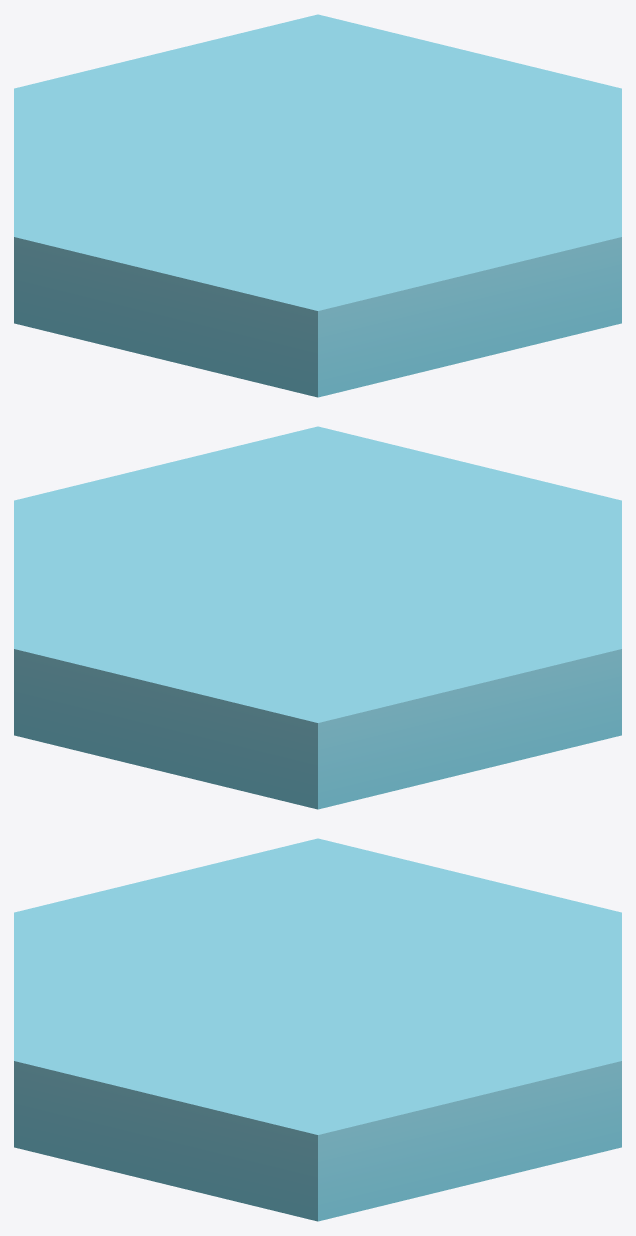
Rendered from lowpoly_spot_small_water.fbx.
3 views of the same model, one above another, from view 1: azimuth 30°, elevation 25°; view 2: azimuth 150°, elevation 25°; view 3: azimuth 270°, elevation 25° (orthographic).
Visible parts, largest first — view 1: lowpoly_spot_small_water; view 2: lowpoly_spot_small_water; view 3: lowpoly_spot_small_water.
Part boxes in pixels (x1,y1,x2,y2): lowpoly_spot_small_water: [14, 14, 621, 397]; lowpoly_spot_small_water: [14, 426, 621, 809]; lowpoly_spot_small_water: [14, 838, 621, 1221].
Bounding box in the file's own units: 165 × 22.37 × 143.
Materials: 1 (1 with a texture image).
